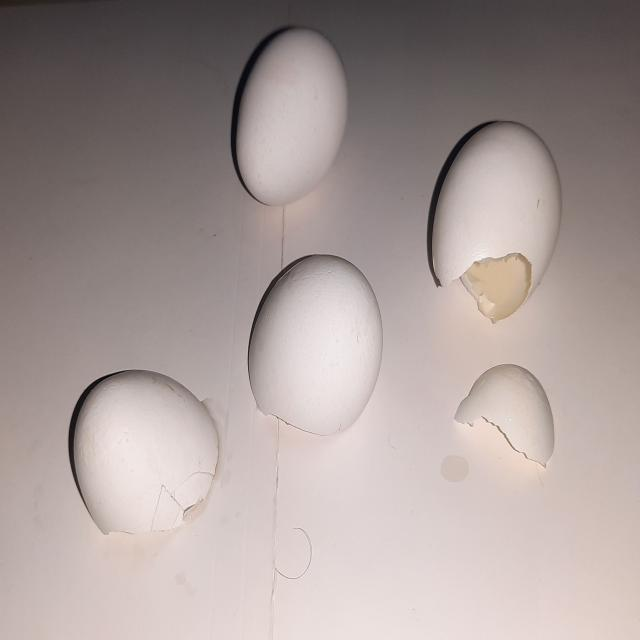egg shell: (428, 116, 566, 333), (242, 248, 390, 444), (66, 362, 224, 545), (230, 21, 352, 214), (454, 362, 564, 475)
